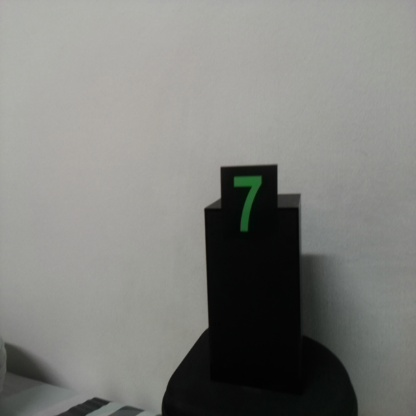id_7: (220, 168, 279, 252)
